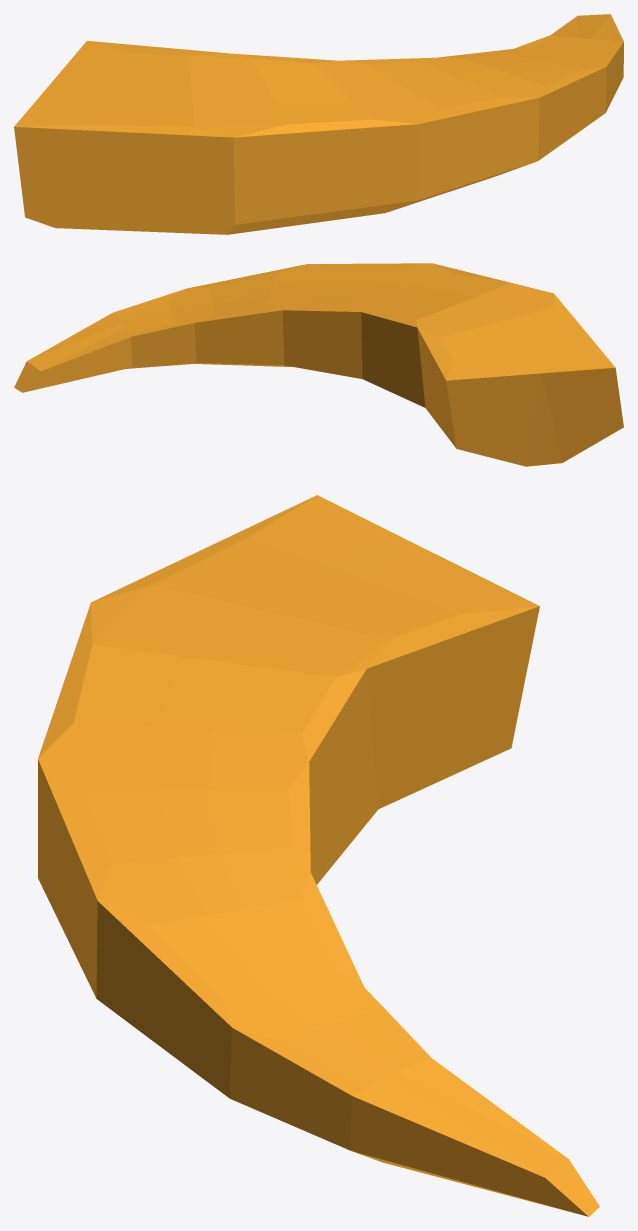
The model's file is SM_Tentacle.fbx.
The picture shows the model from 3 angles, top to bottom: view 1: azimuth 30°, elevation 25°; view 2: azimuth 150°, elevation 25°; view 3: azimuth 270°, elevation 25°; orthographic projection. The views are drawn at different scales.
Parts seen in each view (by area): view 1: tentacle; view 2: tentacle; view 3: tentacle.
Part boxes in pixels (left/top/right/bottom): tentacle: left=14, top=14, right=623, bottom=234; tentacle: left=14, top=263, right=623, bottom=466; tentacle: left=38, top=495, right=599, bottom=1216.
Bounding box in the file's own units: 0.1973 × 0.0374 × 0.09.
